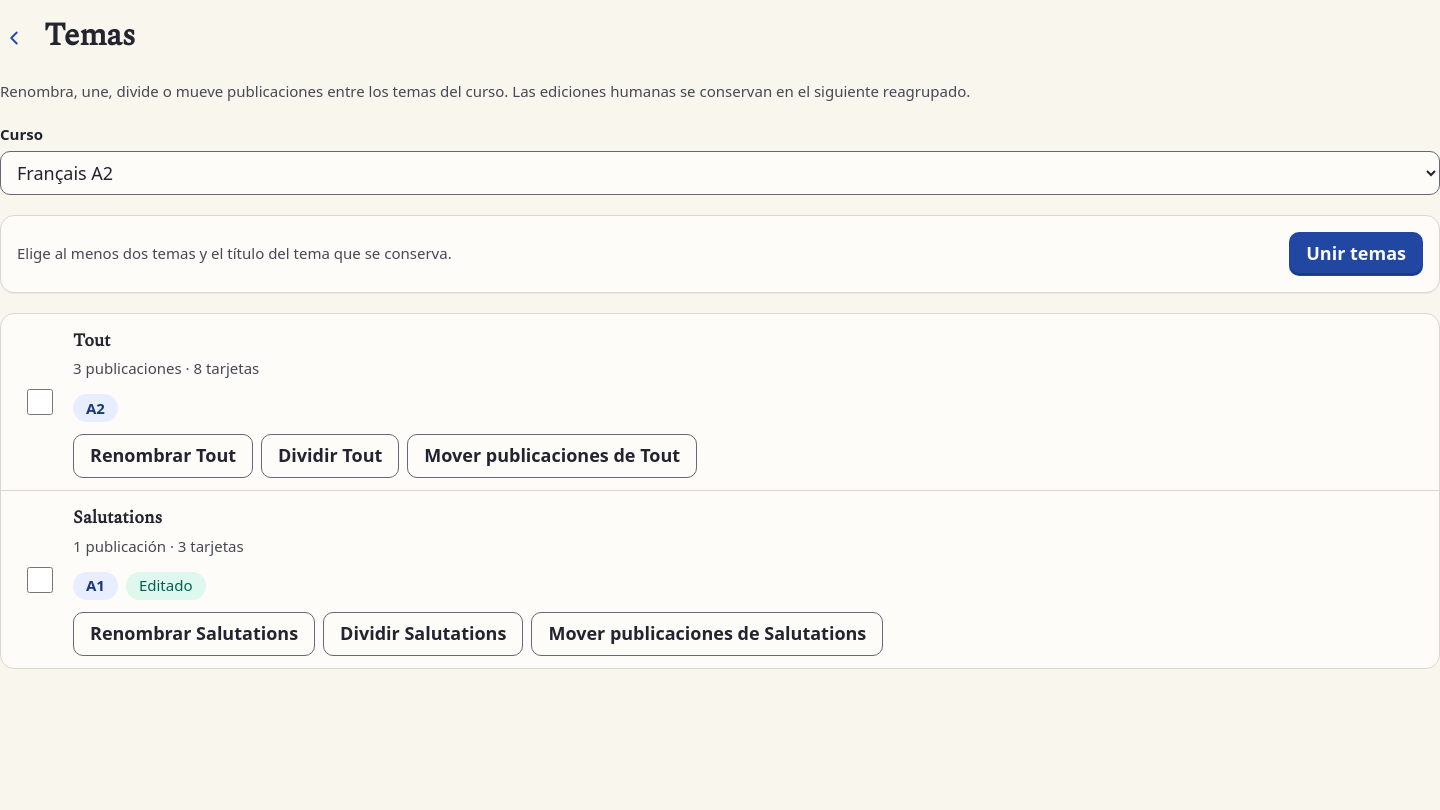
it: los temas editados por una persona se marcan y las operaciones avisan que se conservan
Expected: the text "Editado" is shown, 126,572 -> 206,600
Click the button "Renombrar Tout" at (163, 456), box 73,434 -> 253,478
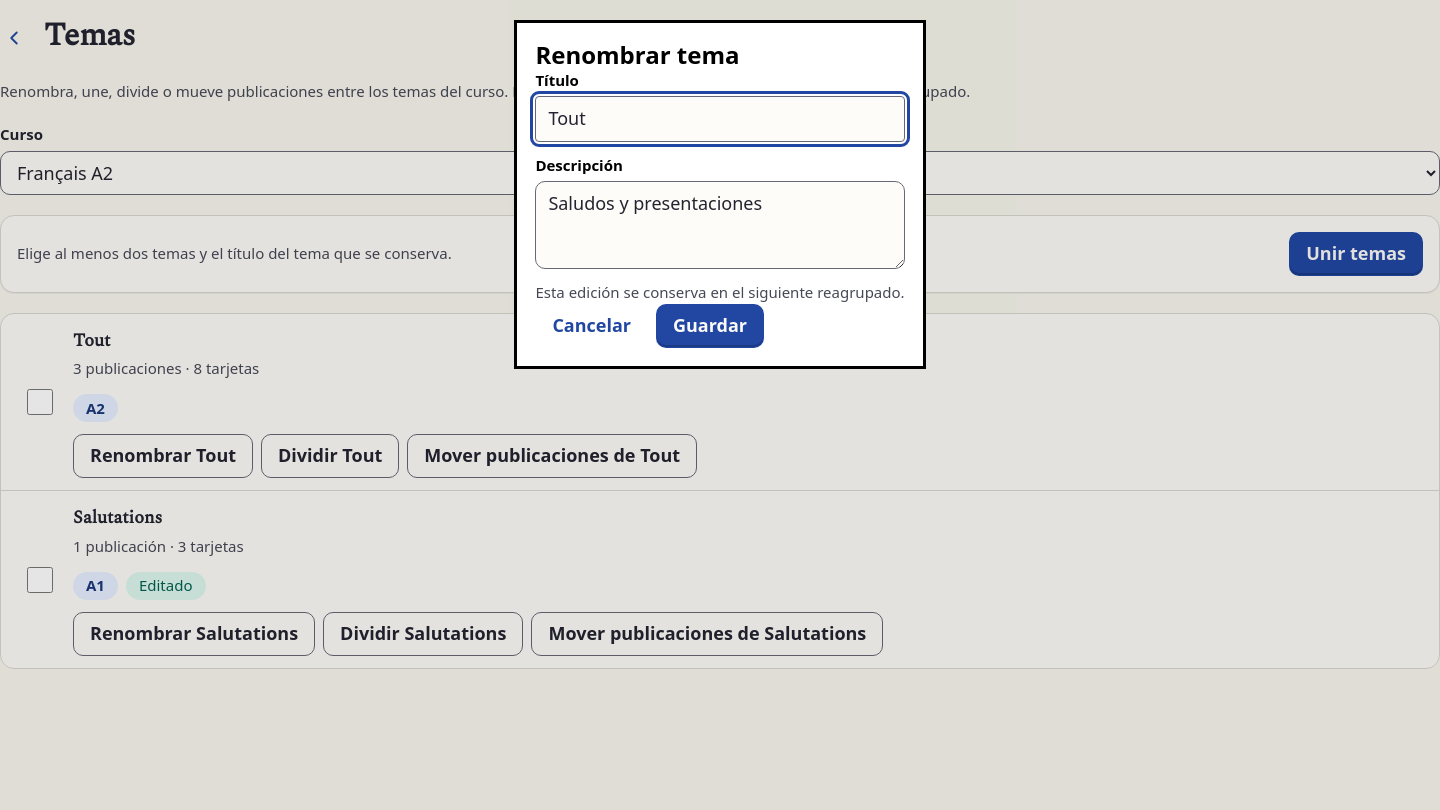
Now the text "Esta edición se conserva en el siguiente reagrupado." is shown, box 535,281 -> 905,304
